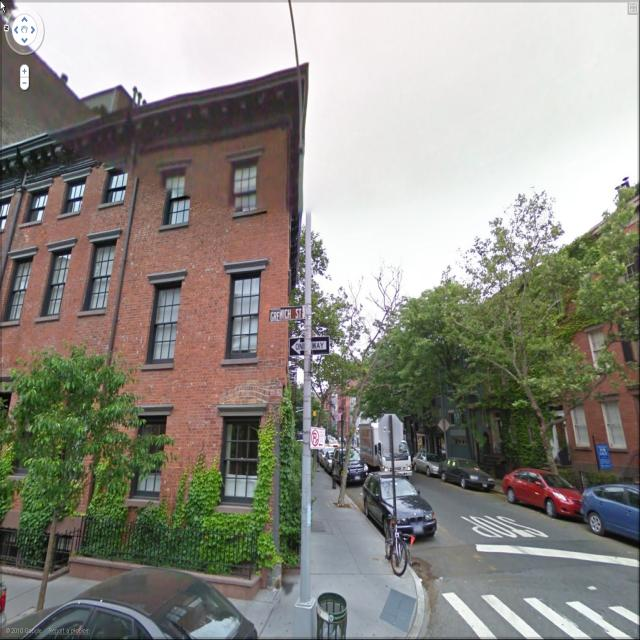b_1: (110, 74, 306, 470)
b_2: (6, 65, 302, 580), (539, 218, 640, 520), (483, 267, 586, 507), (415, 312, 489, 472)
